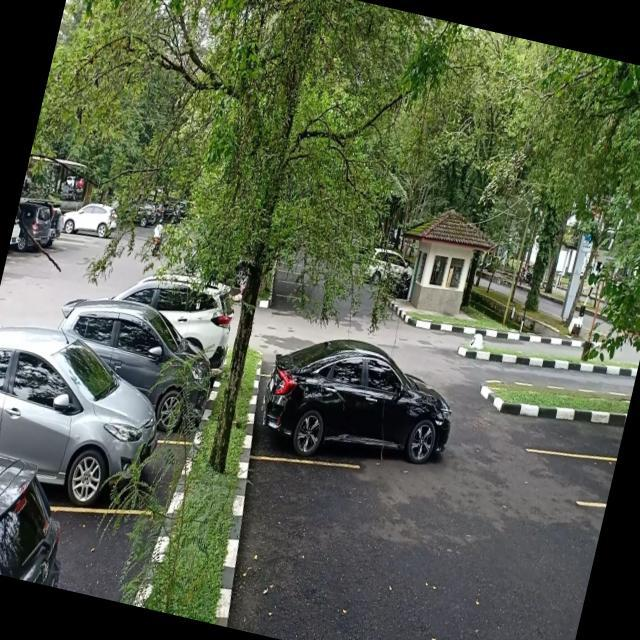occupied: (246, 366, 464, 489), (23, 388, 190, 528), (120, 325, 219, 450)
